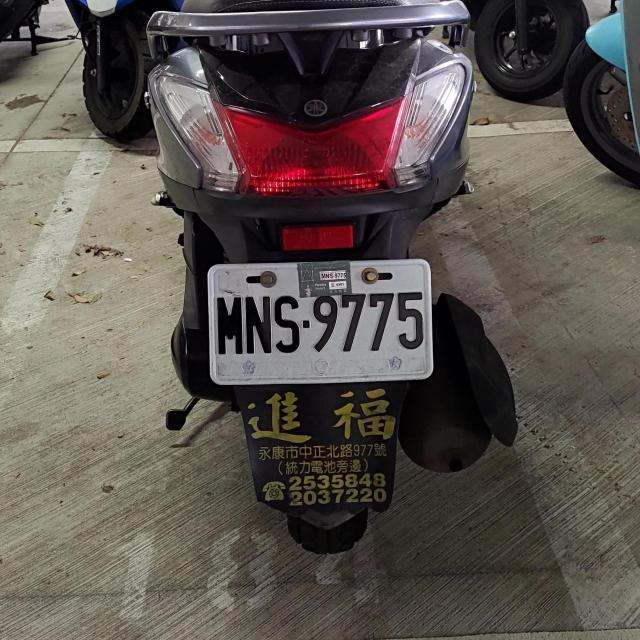W: (206, 262, 432, 386)
